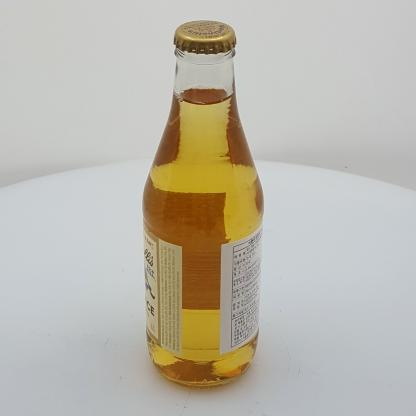------------------296ML: (142, 20, 264, 389)
